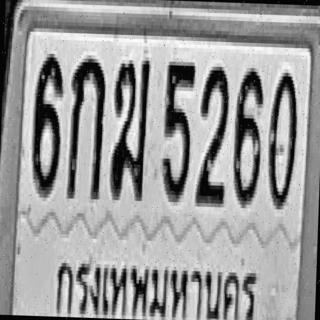A01: (65, 54, 106, 200)
A06: (110, 56, 150, 198)
N00: (266, 67, 298, 208)
N02: (195, 64, 230, 205)
N05: (160, 58, 196, 202)
N06: (30, 52, 64, 196), (231, 64, 264, 205)
P04: (52, 243, 262, 320)
